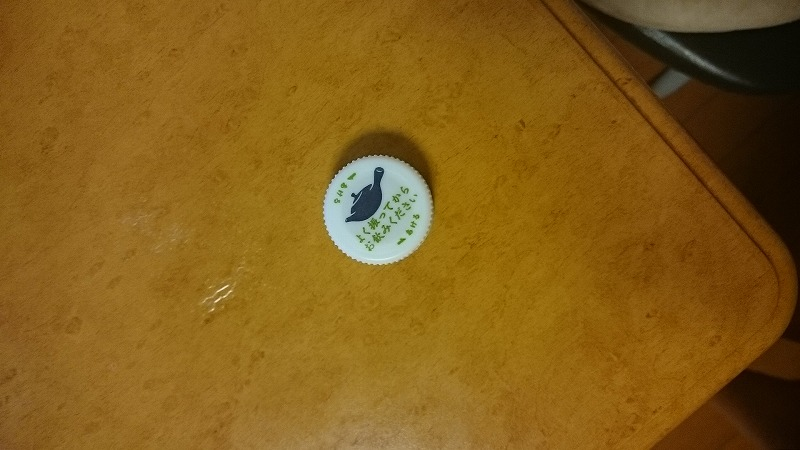A: (319, 149, 440, 269)
